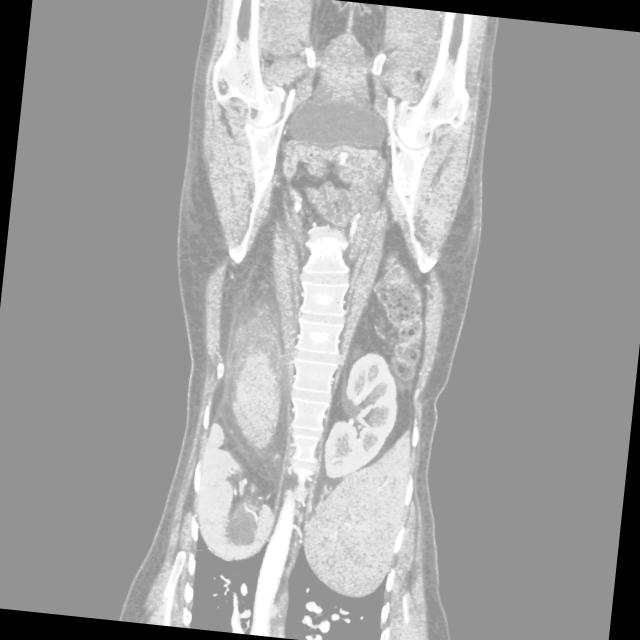TUMOR: (150, 184, 434, 492)
